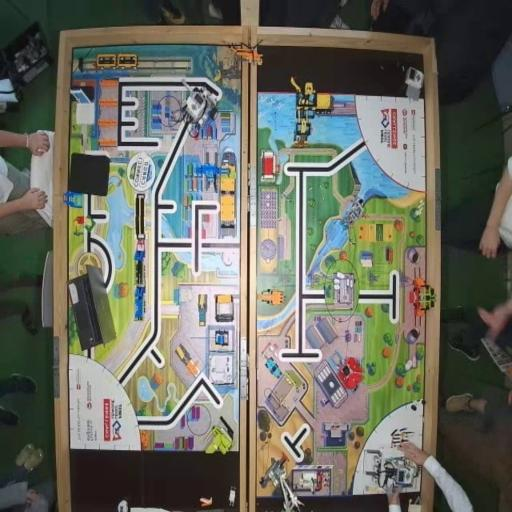lego_robot: (362, 449, 420, 497), (181, 78, 219, 132)
